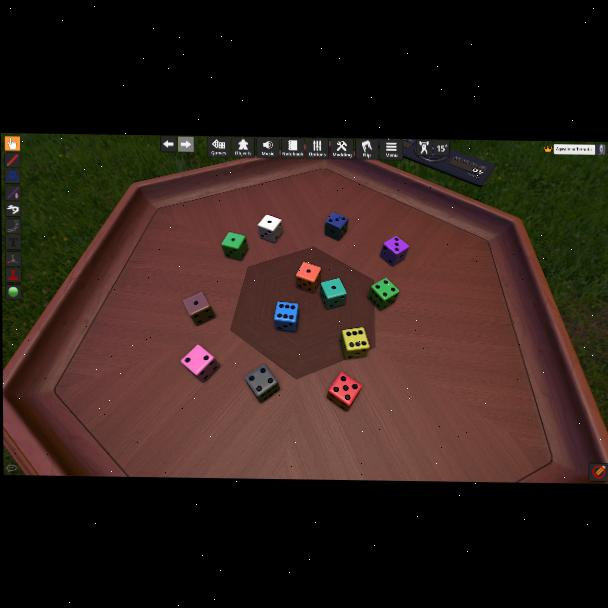d6: (181, 344, 219, 382), (326, 371, 362, 411), (244, 364, 279, 404), (184, 292, 215, 326), (368, 278, 399, 311), (341, 327, 370, 359), (380, 235, 408, 267), (319, 278, 345, 310), (273, 301, 299, 332), (221, 232, 247, 261), (295, 262, 319, 293), (258, 214, 282, 244), (324, 212, 347, 242)
